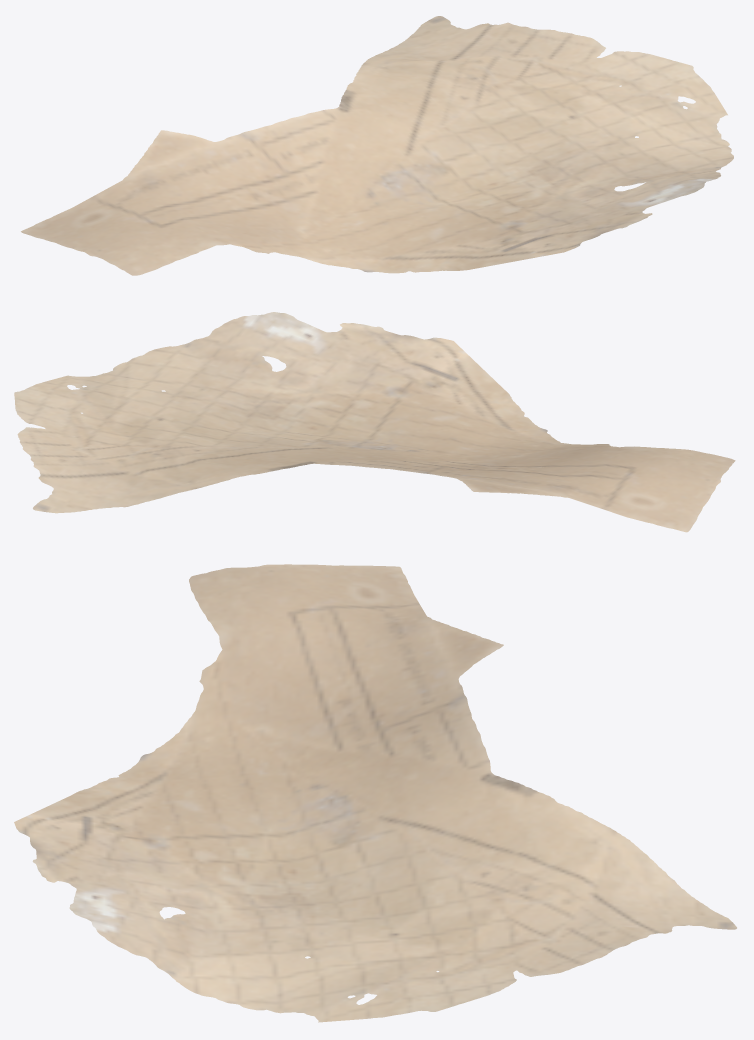
The model's file is SM_Paper_002.fbx.
The picture shows the model from 3 angles, top to bottom: view 1: azimuth 30°, elevation 25°; view 2: azimuth 150°, elevation 25°; view 3: azimuth 270°, elevation 25°; orthographic projection. The views are drawn at different scales.
Visible parts, largest first — view 1: SM_Paper_002; view 2: SM_Paper_002; view 3: SM_Paper_002.
Boxes of the visible parts, <box> form: SM_Paper_002: <box>21,16,733,275</box>; SM_Paper_002: <box>14,312,735,532</box>; SM_Paper_002: <box>14,564,736,1022</box>.
Size of the model in its own units: 40.33 by 28.37 by 3.22.
Materials: 1 (1 with a texture image).
